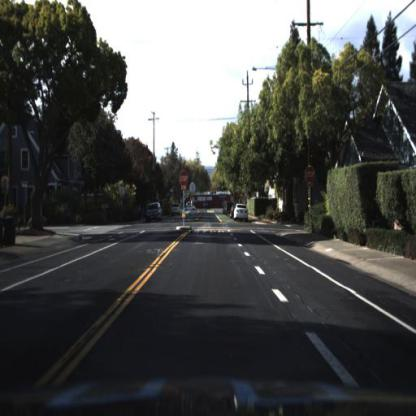car: (145, 204, 162, 225), (233, 202, 249, 224)
